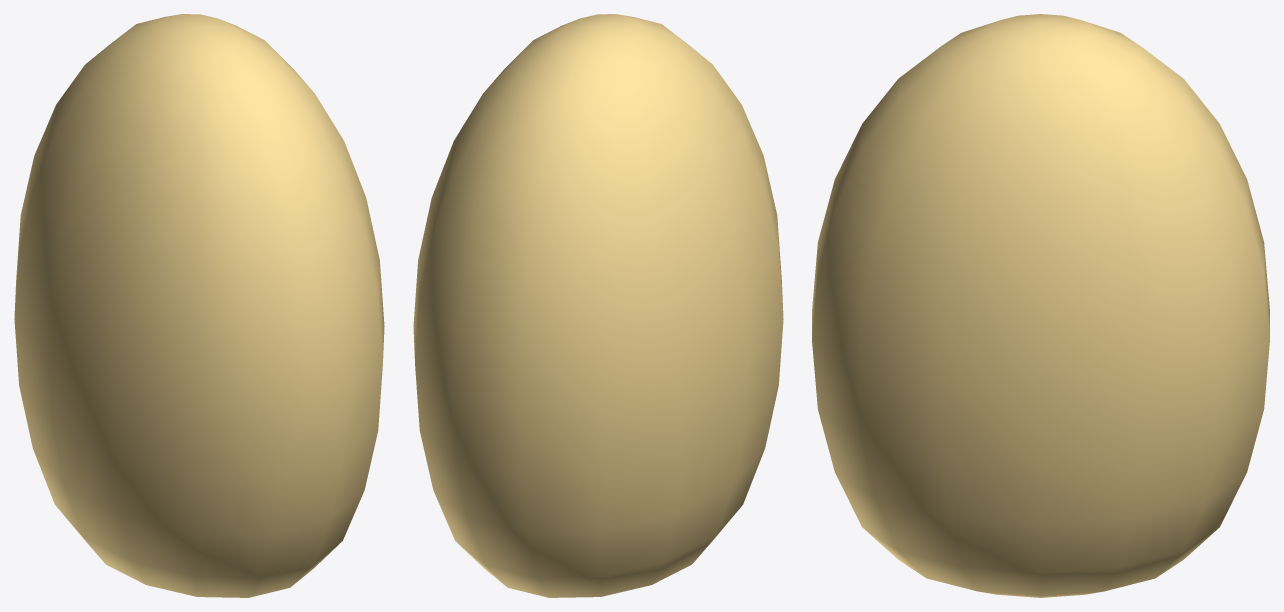
File: manul-body.gltf
3 renders of one model, left to right at view 1: azimuth 30°, elevation 25°; view 2: azimuth 150°, elevation 25°; view 3: azimuth 270°, elevation 25°, orthographic. The views are drawn at different scales.
Parts seen in each view (by area): view 1: grp_catcat_body; view 2: grp_catcat_body; view 3: grp_catcat_body.
Part boxes in pixels (x1,y1,x2,y2): grp_catcat_body: [14, 14, 384, 597]; grp_catcat_body: [413, 14, 783, 597]; grp_catcat_body: [812, 14, 1269, 597].
Size of the model in its own units: 1.17 by 2.05 by 1.51.
